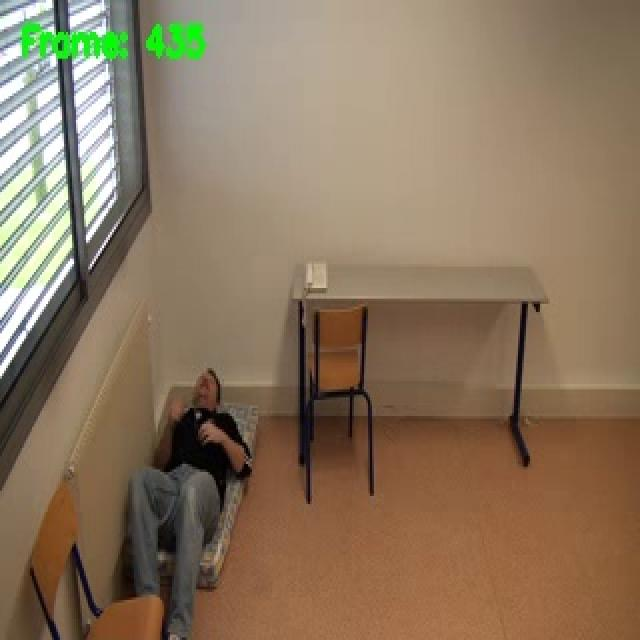Fall-Detected: (128, 357, 250, 640)
